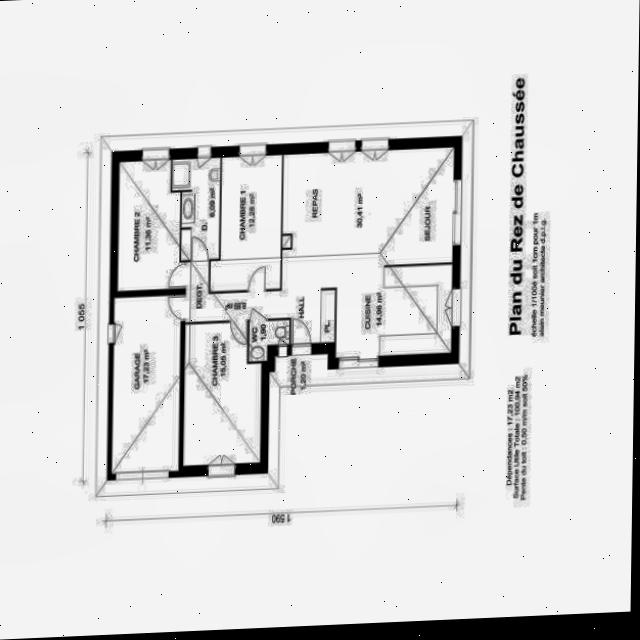room: (185, 142, 455, 359), (110, 292, 185, 474), (183, 320, 262, 466), (210, 153, 282, 292), (112, 159, 186, 290), (171, 156, 220, 260), (248, 319, 290, 361)
